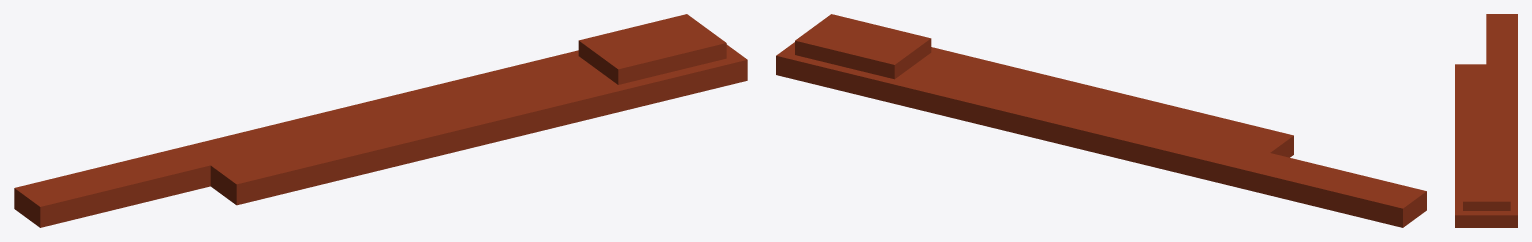
Rendered from Instrument1.fbx.
3 views of the same model, side by side, from view 1: azimuth 30°, elevation 25°; view 2: azimuth 150°, elevation 25°; view 3: azimuth 270°, elevation 25° (orthographic). The views are drawn at different scales.
Parts seen in each view (by area): view 1: Instrument001; view 2: Instrument001; view 3: Instrument001.
Boxes of the visible parts, bbox=[...] form: Instrument001: bbox=[14, 14, 747, 227]; Instrument001: bbox=[776, 14, 1426, 227]; Instrument001: bbox=[1455, 14, 1517, 227].
Size of the model in its own units: 20.16 by 1.04 by 2.66.
